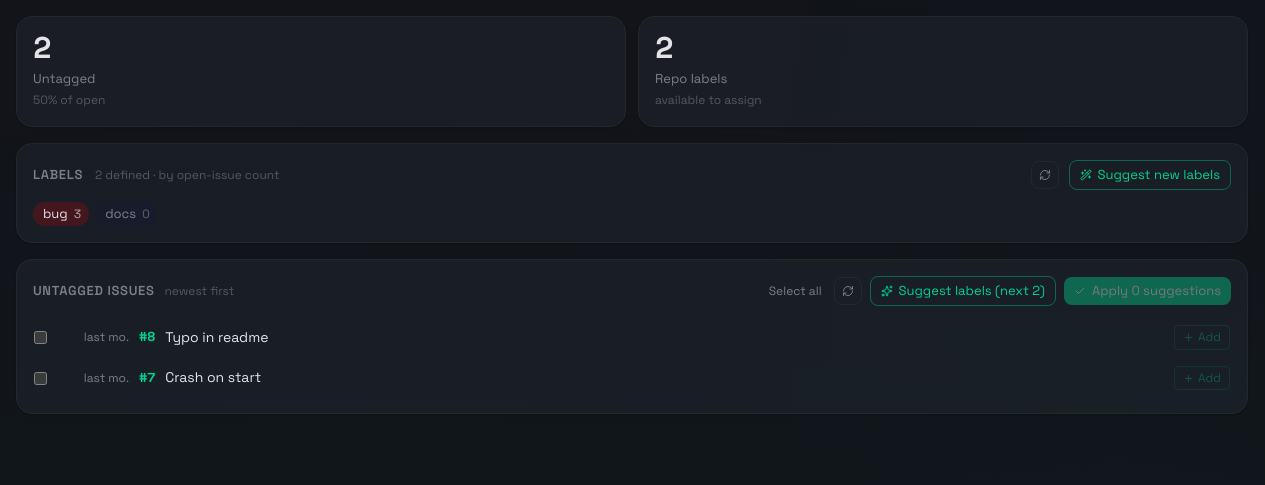
Test: TaggingView › sends only the staged labels when applying the whole batch
Expected: the text "Crash on start" is shown, [165,368,261,386]
Click the button "Suggest labels (next 2)" at (963, 291), box [870,276,1056,306]
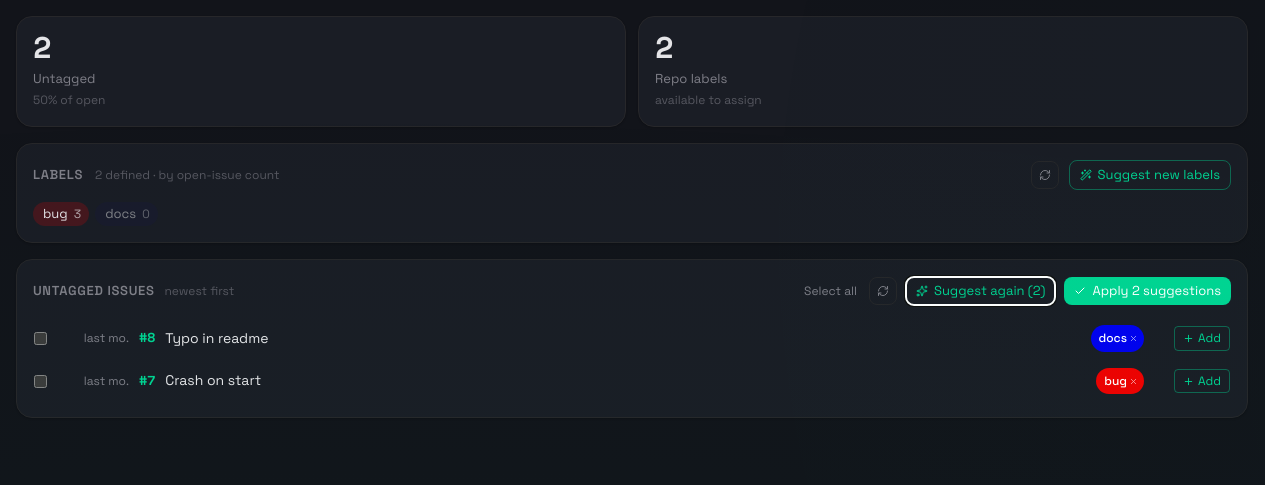
Now the button "Apply 2 suggestions" is shown
Click the button "Apply 2 suggestions" at (1148, 291), box [1064,277,1231,305]
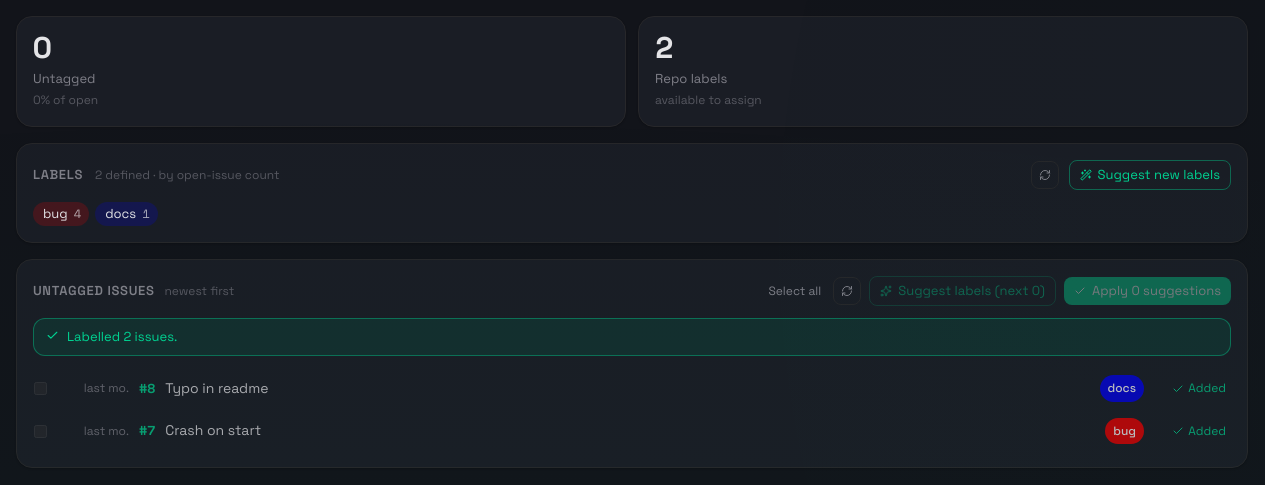
Now the text "Added" is shown 2 times, box [1168,379,1230,398]; [1168,422,1230,440]
Now the text "Labelled 2 issues." is shown, box [67,327,177,347]
Now the button "Apply 0 suggestions" is disabled, box [1064,277,1231,305]
